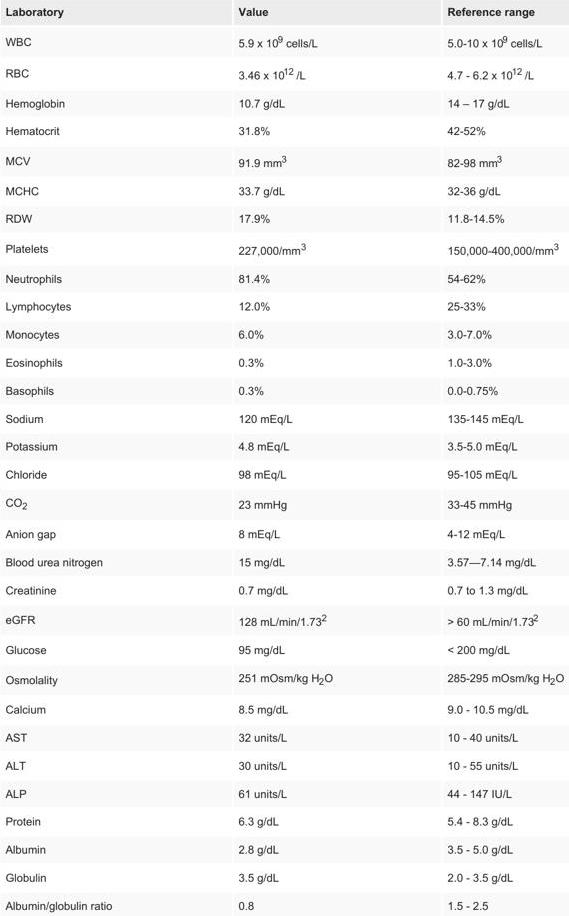table: (4, 5, 563, 911)
table column: (174, 5, 389, 911), (389, 5, 563, 911), (4, 5, 174, 911)
table row: (4, 25, 563, 57), (4, 232, 563, 264), (4, 57, 563, 88), (4, 145, 563, 176), (4, 488, 563, 519), (4, 604, 563, 635), (4, 663, 563, 694), (4, 116, 563, 145), (4, 575, 563, 604), (4, 694, 563, 723), (4, 88, 563, 116), (4, 176, 563, 204), (4, 204, 563, 232), (4, 264, 563, 292), (4, 292, 563, 320), (4, 320, 563, 348), (4, 348, 563, 376), (4, 376, 563, 404), (4, 404, 563, 432), (4, 432, 563, 460), (4, 460, 563, 488), (4, 519, 563, 547), (4, 547, 563, 575), (4, 635, 563, 663), (4, 723, 563, 751), (4, 751, 563, 779), (4, 779, 563, 807), (4, 807, 563, 835), (4, 835, 563, 863), (4, 863, 563, 891), (4, 5, 563, 25), (4, 891, 563, 911)
